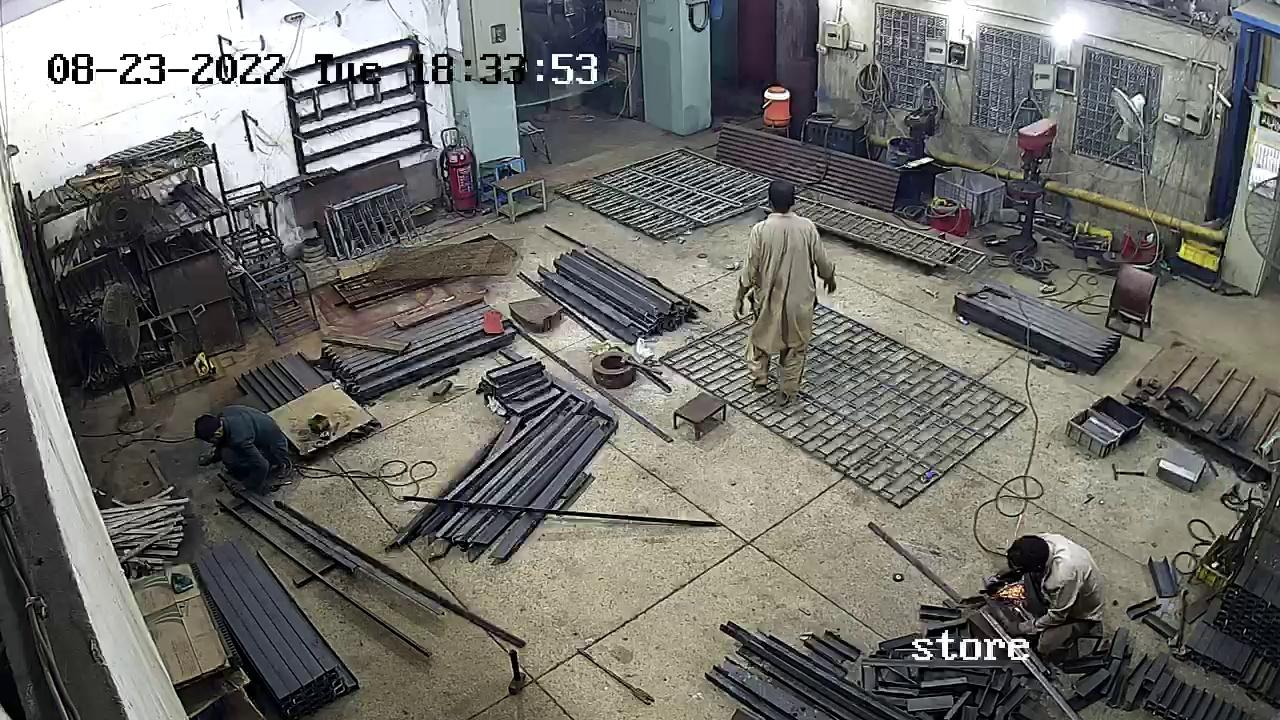person: (739, 176, 830, 408), (184, 401, 303, 507), (994, 521, 1100, 628)
